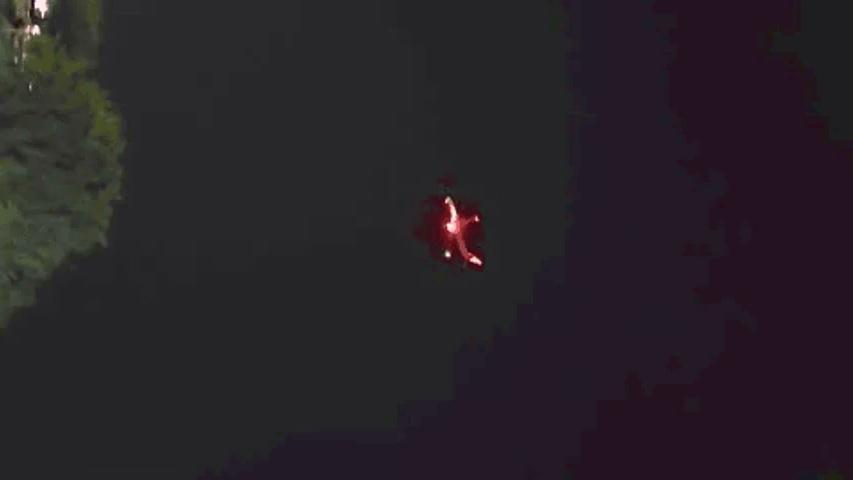Plane: (375, 155, 540, 304)
